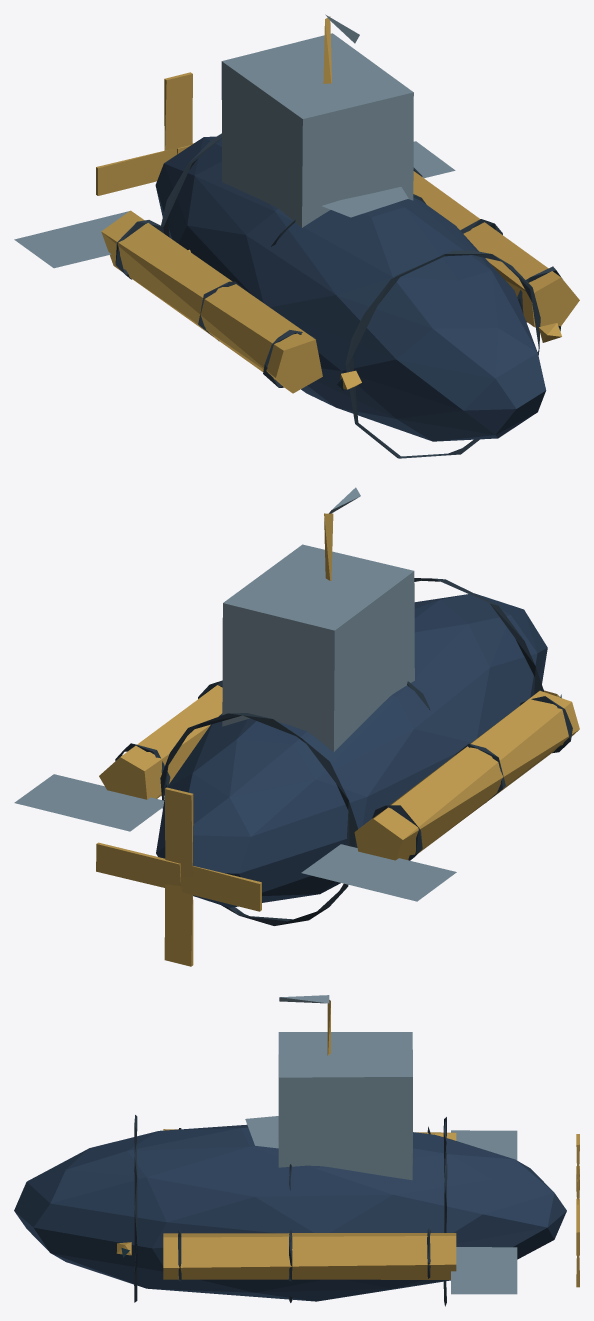
The model's file is submarines-steampunk-sub.lod2.glb.
3 renders of one model, top to bottom at view 1: azimuth 30°, elevation 25°; view 2: azimuth 150°, elevation 25°; view 3: azimuth 270°, elevation 25°, orthographic. The views are drawn at different scales.
Parts seen in each view (by area): view 1: submarines-steampunk-sub__body, submarines-steampunk-sub__propeller, submarines-steampunk-sub__hatch; view 2: submarines-steampunk-sub__body, submarines-steampunk-sub__propeller; view 3: submarines-steampunk-sub__body, submarines-steampunk-sub__hatch, submarines-steampunk-sub__propeller.
Part boxes in pixels (x1,y1,x2,y2): submarines-steampunk-sub__body: (14, 14, 579, 458); submarines-steampunk-sub__propeller: (96, 72, 193, 195); submarines-steampunk-sub__hatch: (322, 187, 408, 217); submarines-steampunk-sub__body: (14, 487, 579, 925); submarines-steampunk-sub__propeller: (96, 787, 261, 966); submarines-steampunk-sub__body: (14, 995, 566, 1306); submarines-steampunk-sub__hatch: (245, 1116, 278, 1148); submarines-steampunk-sub__propeller: (576, 1134, 579, 1287).
Size of the model in its own units: 10.51 by 9 by 15.35.
